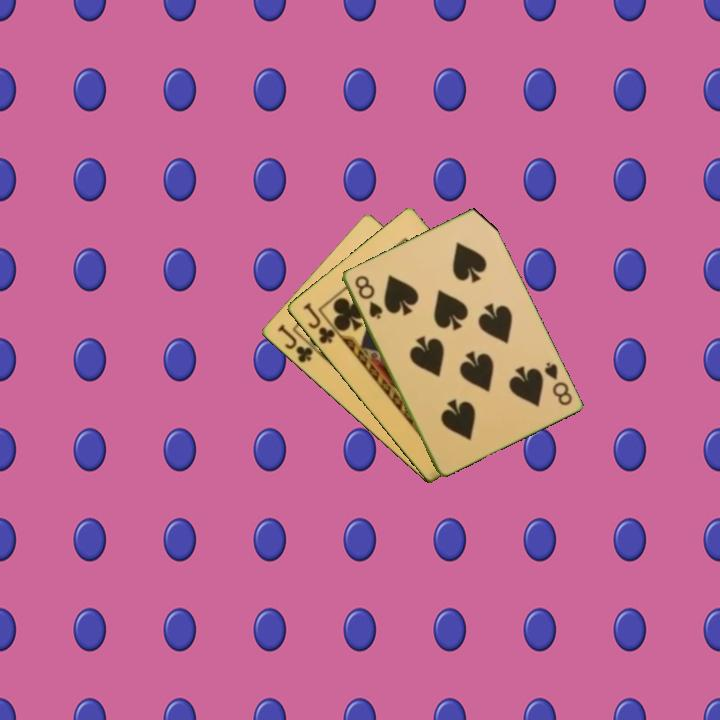8s: (540, 358, 575, 408), (351, 272, 385, 322)
Jc: (273, 321, 321, 366), (299, 299, 338, 347)
